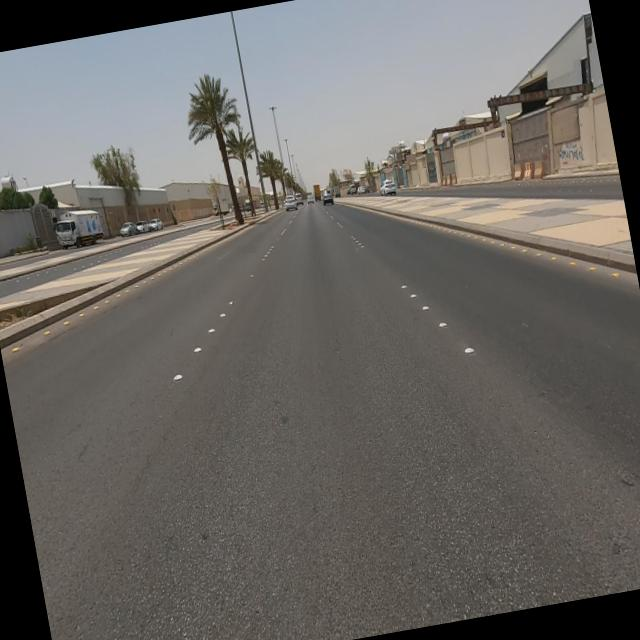Graffiti: (554, 138, 587, 168)
